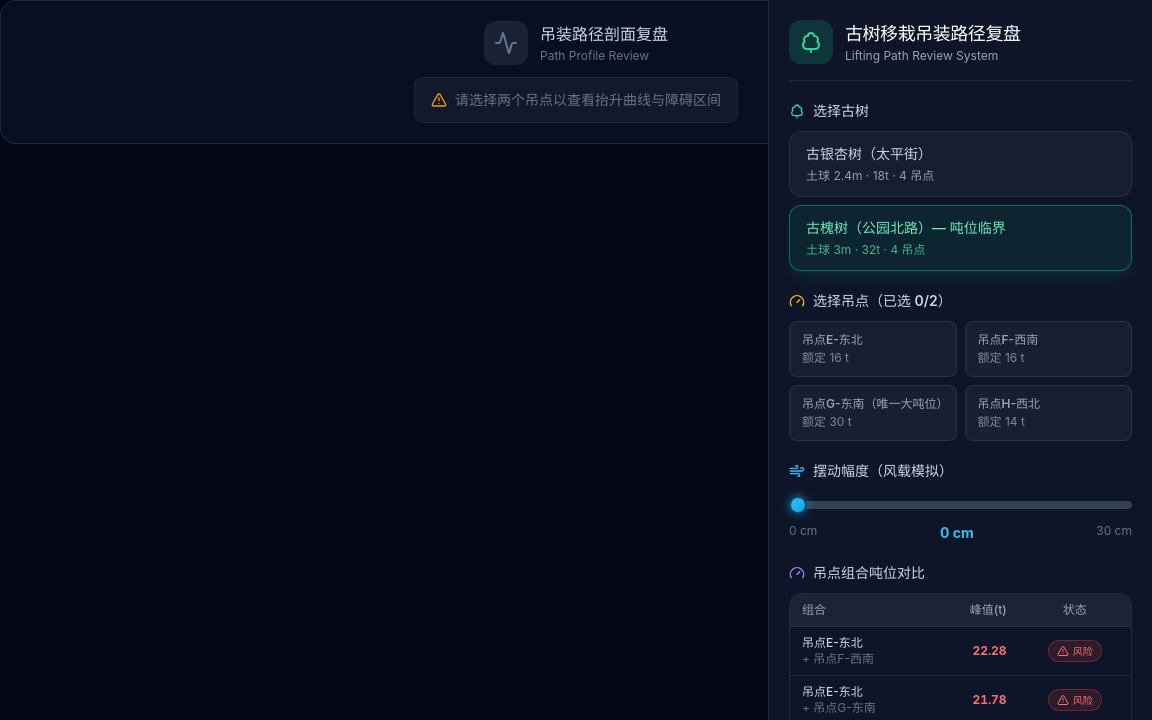
Scenario: 集成：场景2 - 古槐树（公园北路）— 吨位临界 › 任选一个吨位不足组合（吊点E+吊点F），选择后评估卡片峰值吨位标红 + 吨位不足提示
This screenshot has width=1152, height=720.
Click the button "吊点E-东北 额定 16 t" at (873, 349), box top-left (789, 321), bottom-right (956, 377)
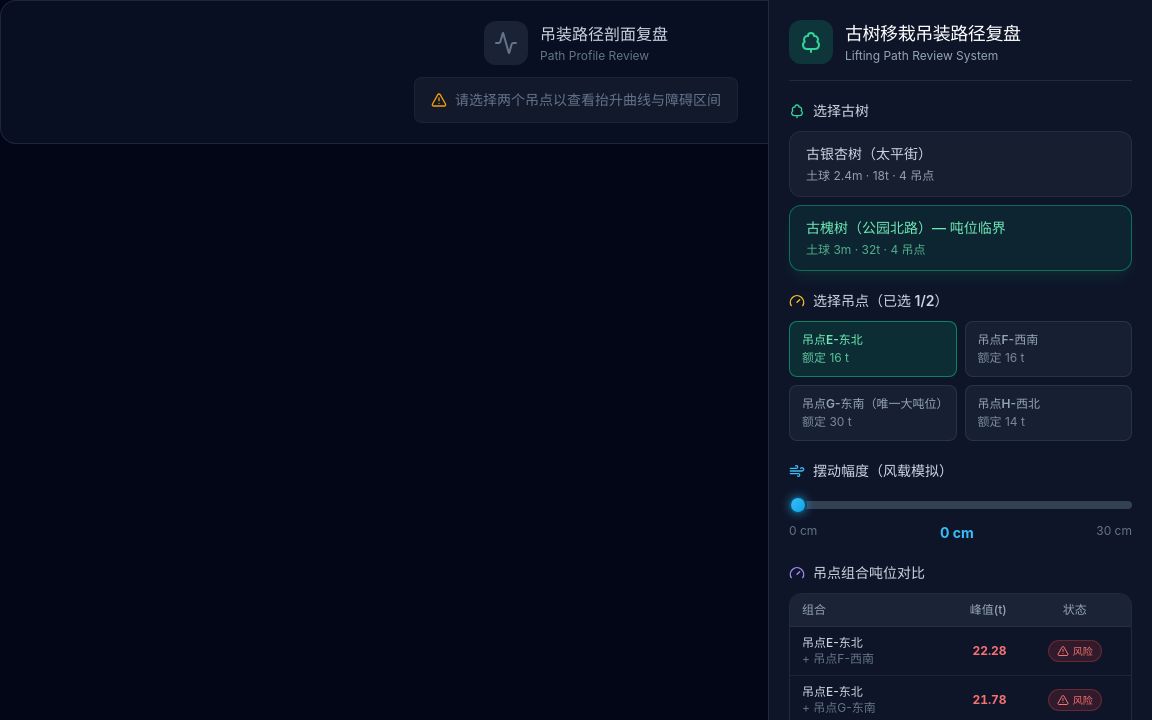
Click the button "吊点F-西南 额定 16 t" at (1048, 349), box top-left (964, 321), bottom-right (1132, 377)
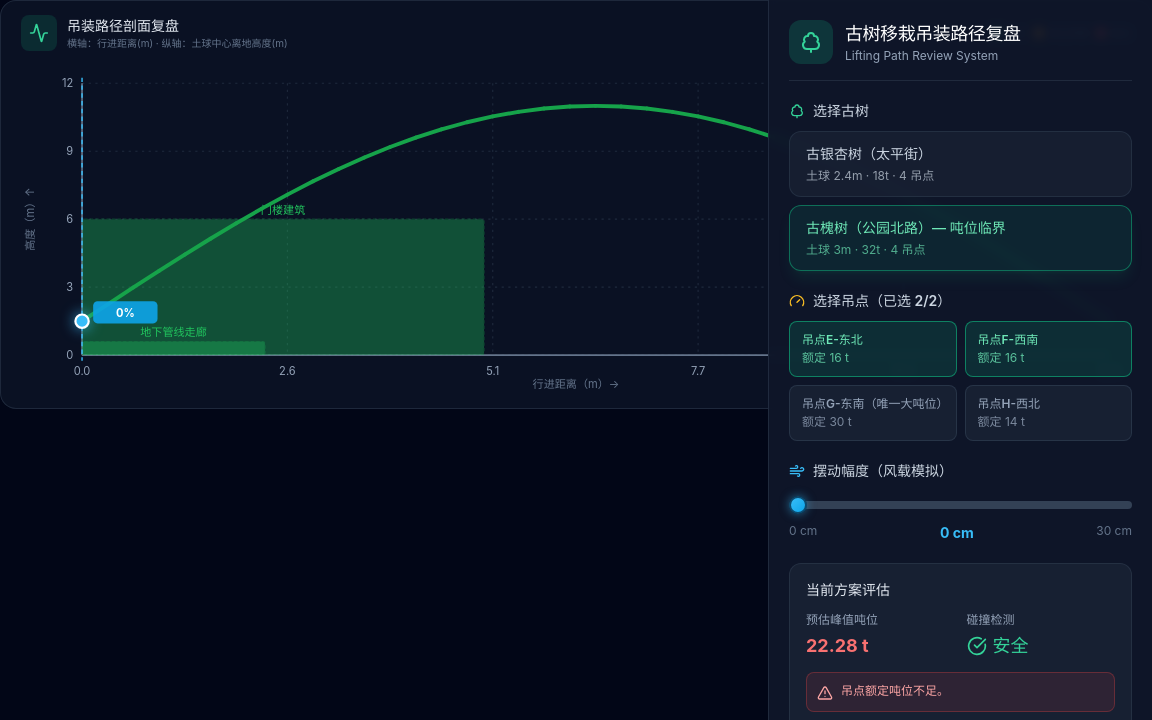
expect the element showing "当前方案评估 预估峰值吨位 22.28 t 碰撞检测 安全 吊点额定吨位不足。 播放吊装动画" is shown: met, box top-left (789, 563), bottom-right (1132, 719)
expect the text "22.28 t" is shown: met, box top-left (806, 635), bottom-right (869, 656)
expect the text "吊点额定吨位不足。" is shown: met, box top-left (841, 683), bottom-right (949, 699)
